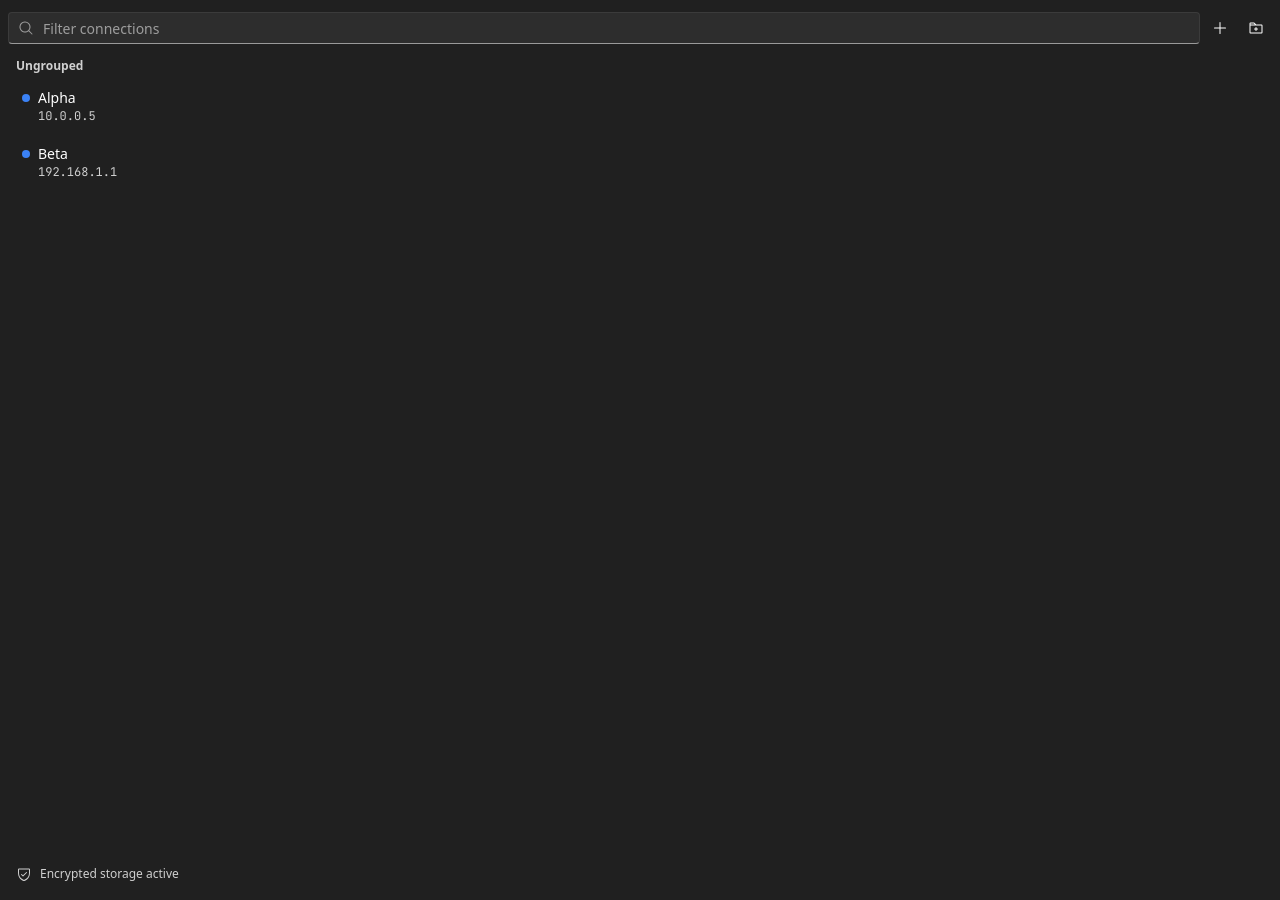
SavedConnectionsList › quick filter › matches against host as well as name
Type "192.168" into the field with test id "connection-filter-input". click: (604, 28)
box: [8,12,1200,44]
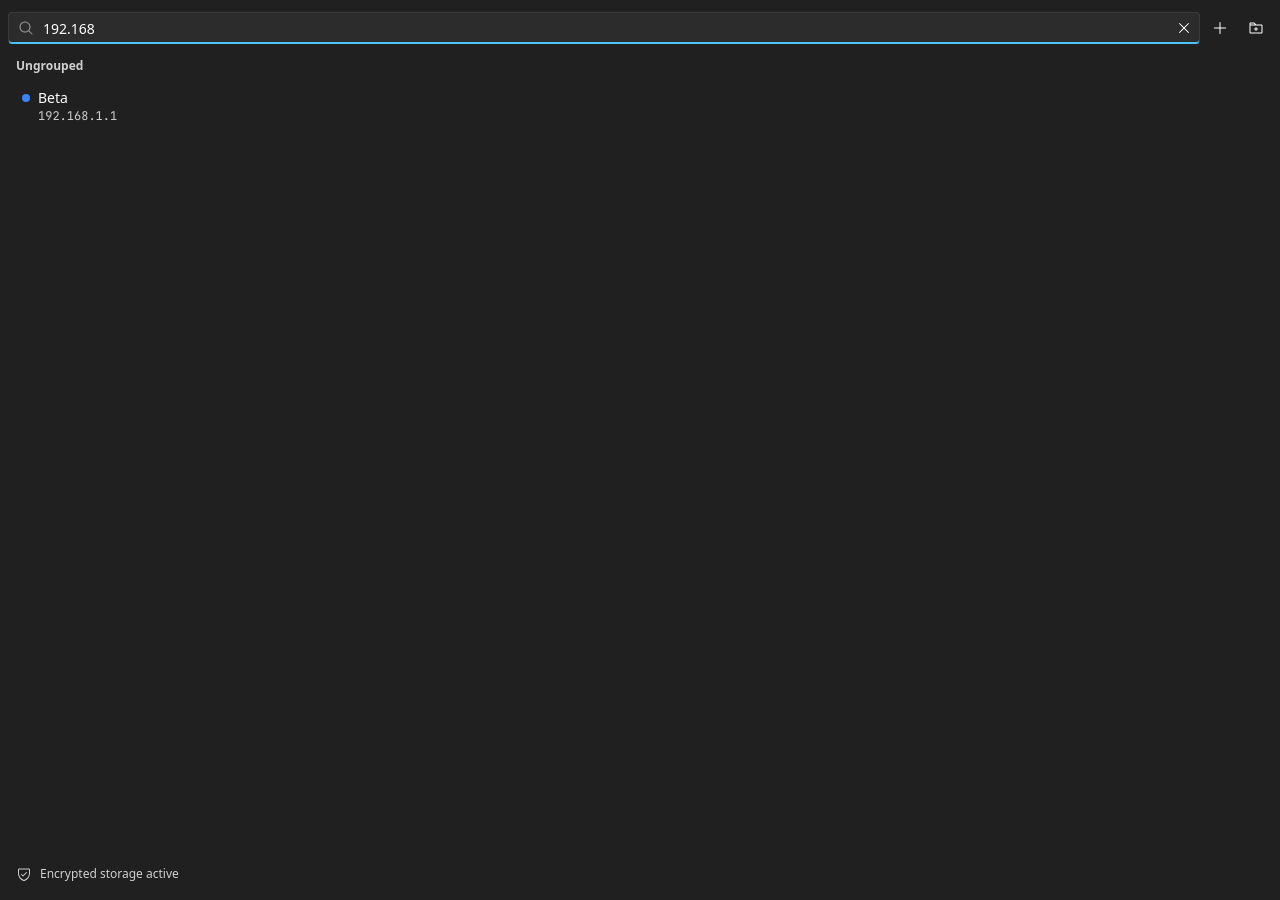
expect the text "Beta" is shown: met, box [38,88,68,108]
expect the button "Alpha" is gone: met
